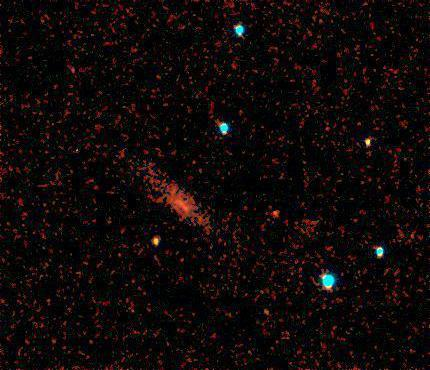star: (57, 55, 87, 85)
